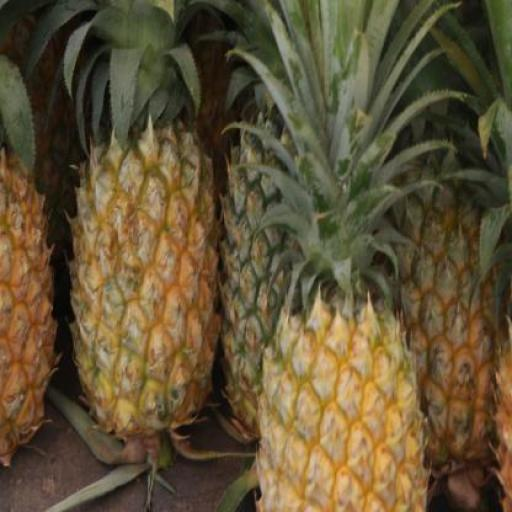------------------------------: (70, 132, 214, 439)
Pineapple - v8 v1: (258, 277, 424, 512), (0, 170, 69, 460)
